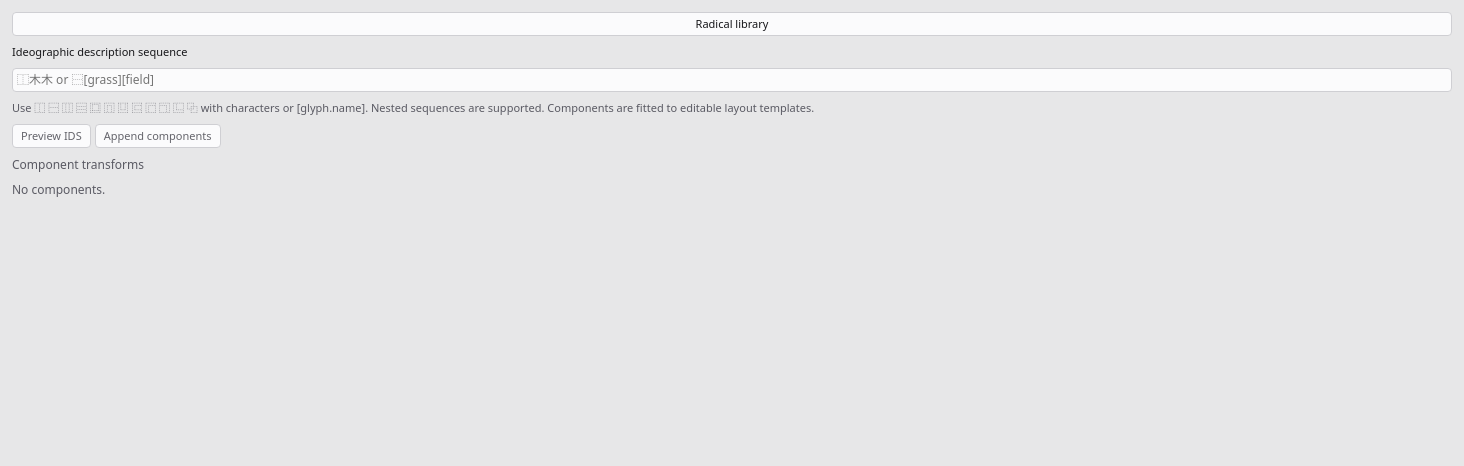
Test: CJK construction panel › previews and appends one atomic command without replacing existing content
This screenshot has width=1464, height=466.
In the field labelled "Ideographic description sequence": (732, 80) [12,68,1452,92], type "⿰木木"
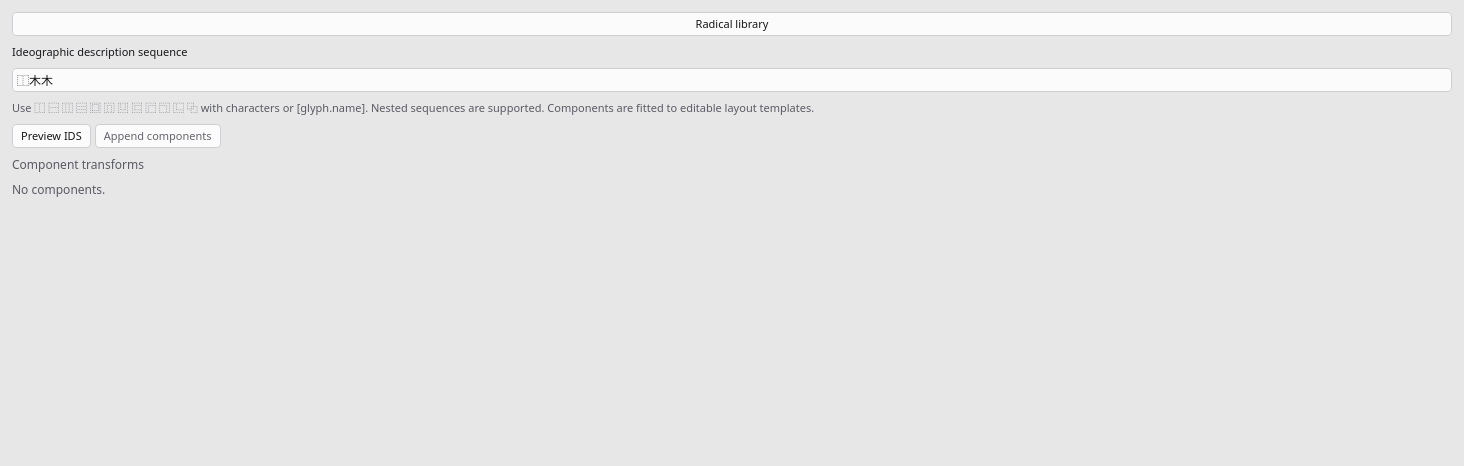
Click the button "Preview IDS": (51, 136) [12,124,91,148]
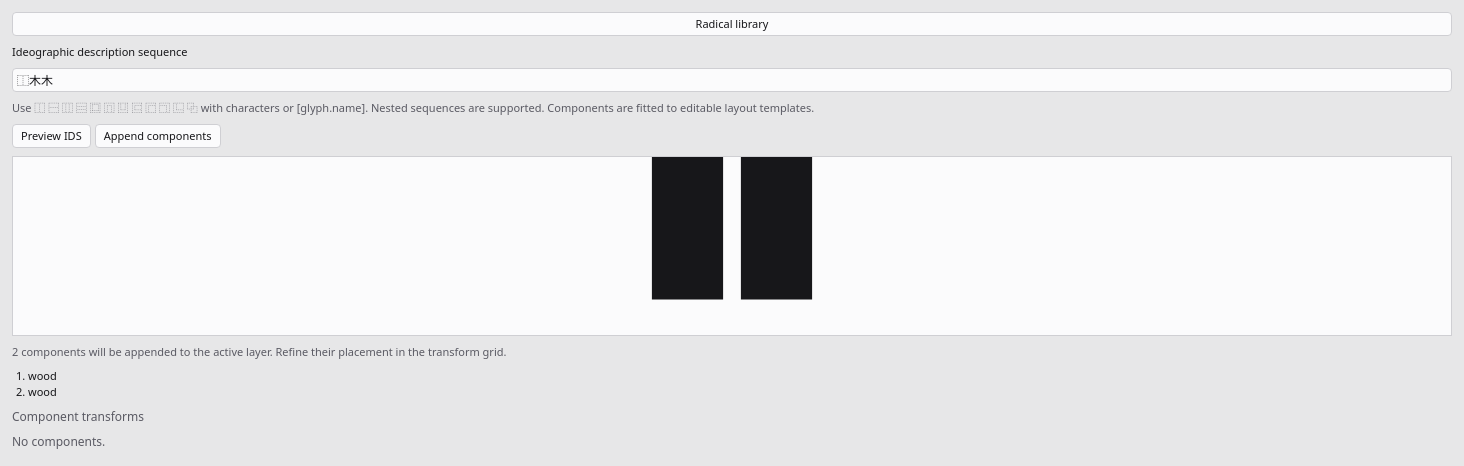
expect the picture named "IDS component preview" is shown: met, box [12,156,1452,336]
Click the button "Append components": (158, 136) [95,124,221,148]
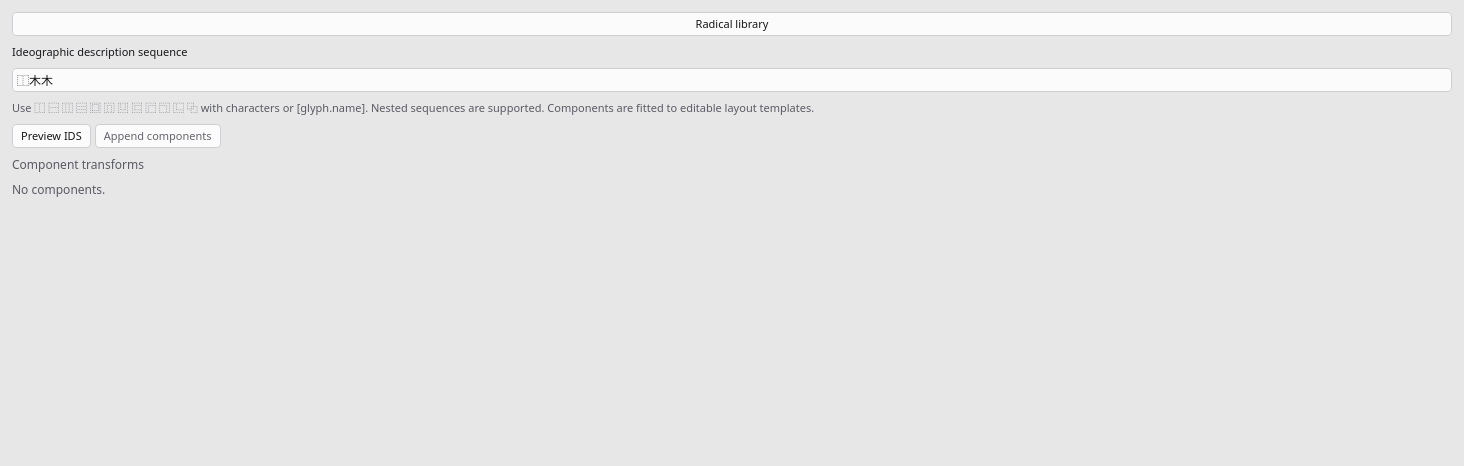
expect the button "Append components" is disabled: met, box [95,124,221,148]
